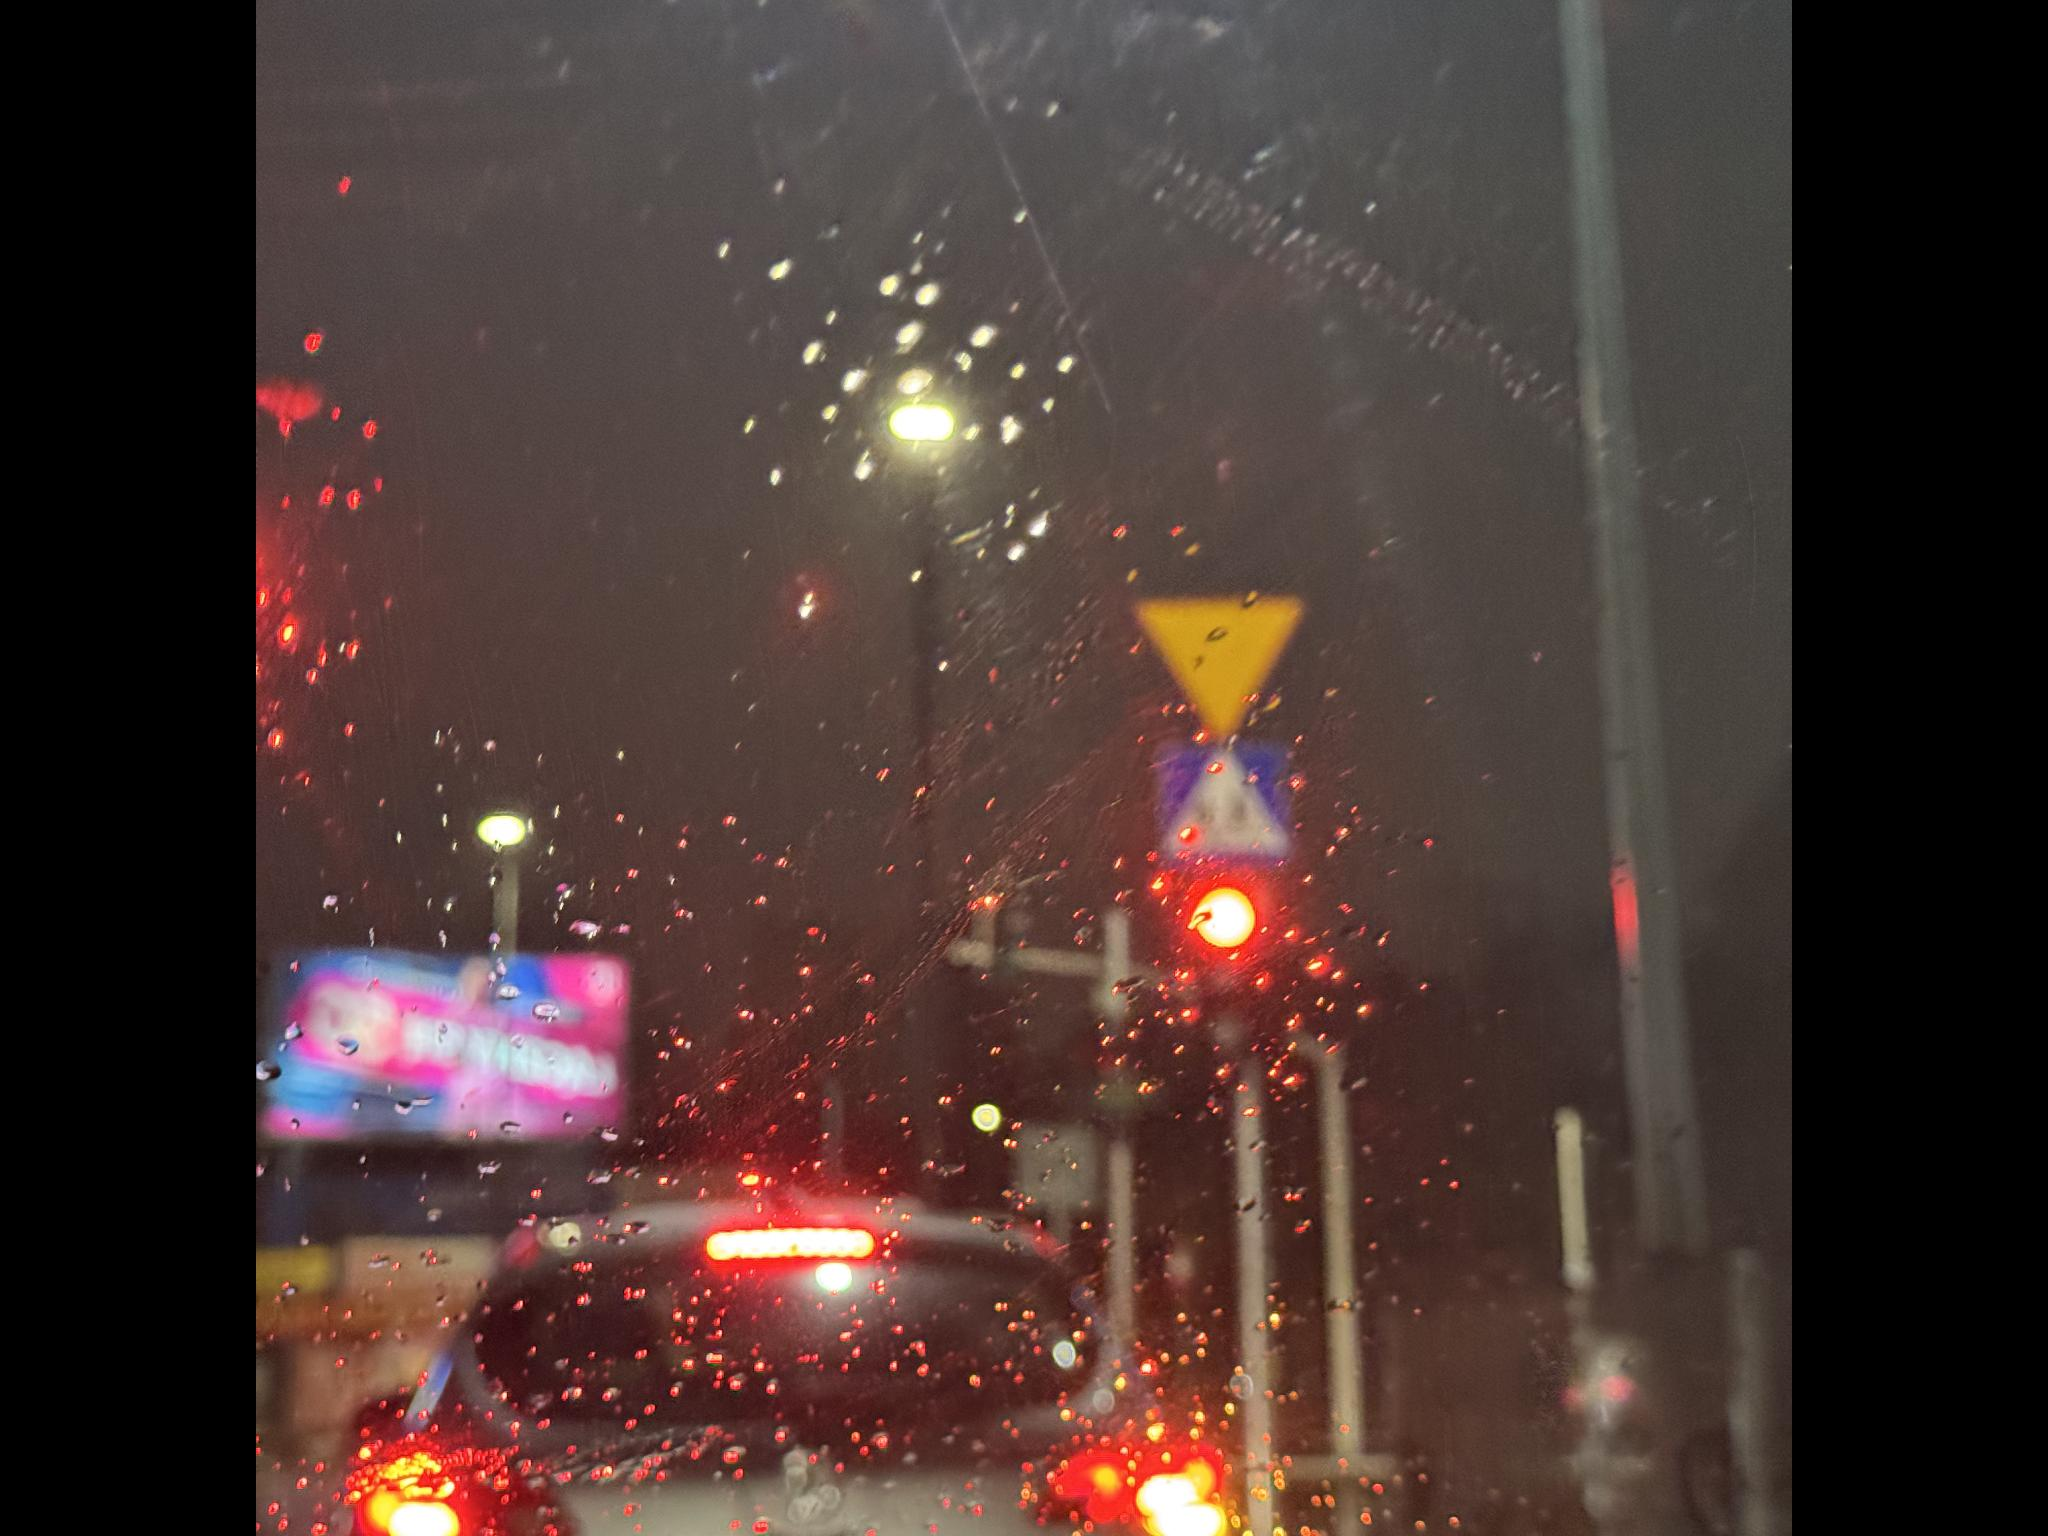information: (1256, 243, 1376, 382)
warning: (1104, 228, 1254, 406)
